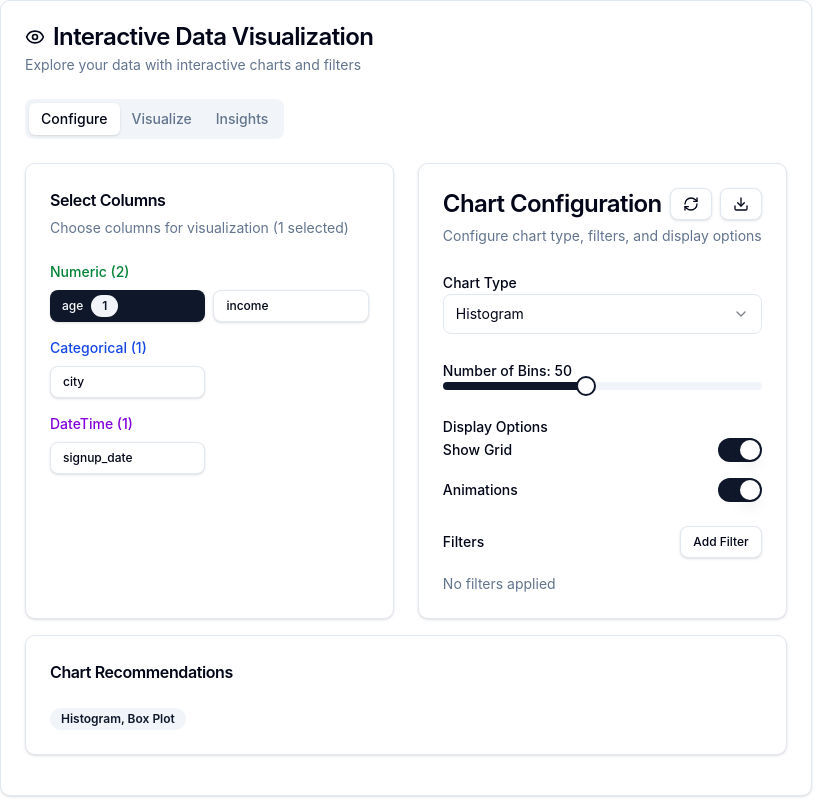
Scenario: InteractiveVisualizationDashboard behaviour › chart recommendations › suggests a bar chart for one categorical column
The width and height of the screenshot is (829, 810).
Click the button "city": {"x": 128, "y": 382} [50, 366, 205, 398]
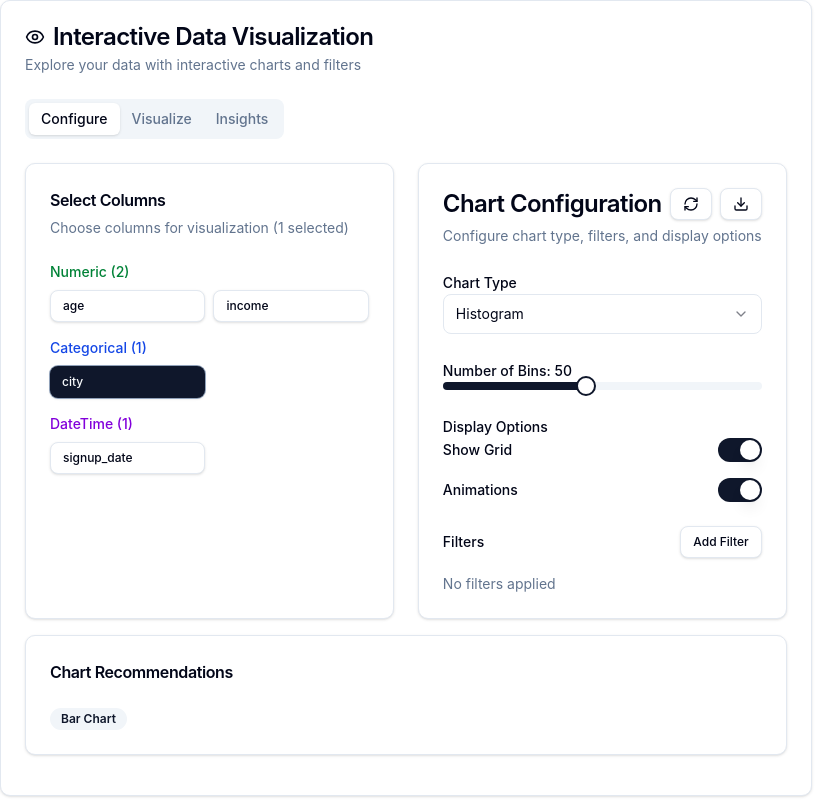
Check: the text "Bar Chart" is shown, box [50, 708, 127, 730]
